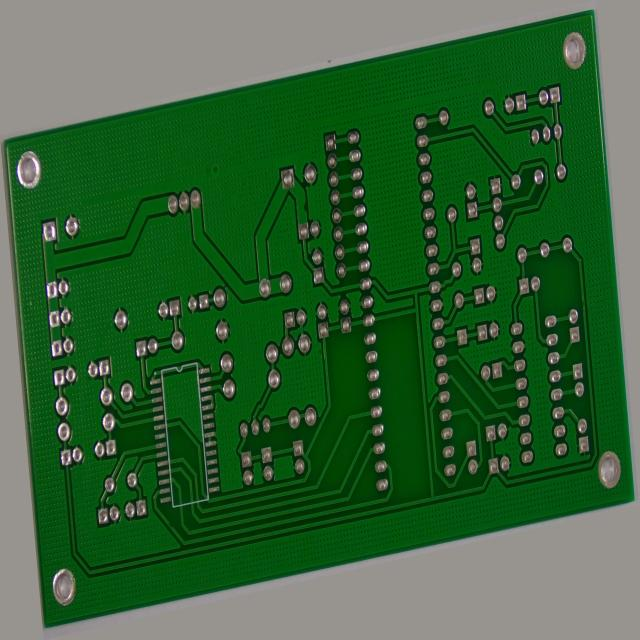mouse_bite: (310, 162, 318, 186), (140, 525, 148, 542), (92, 369, 101, 382)
